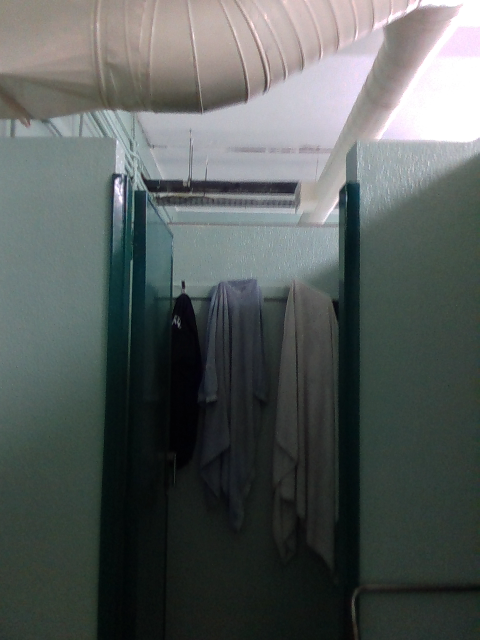open: (97, 179, 171, 639)
